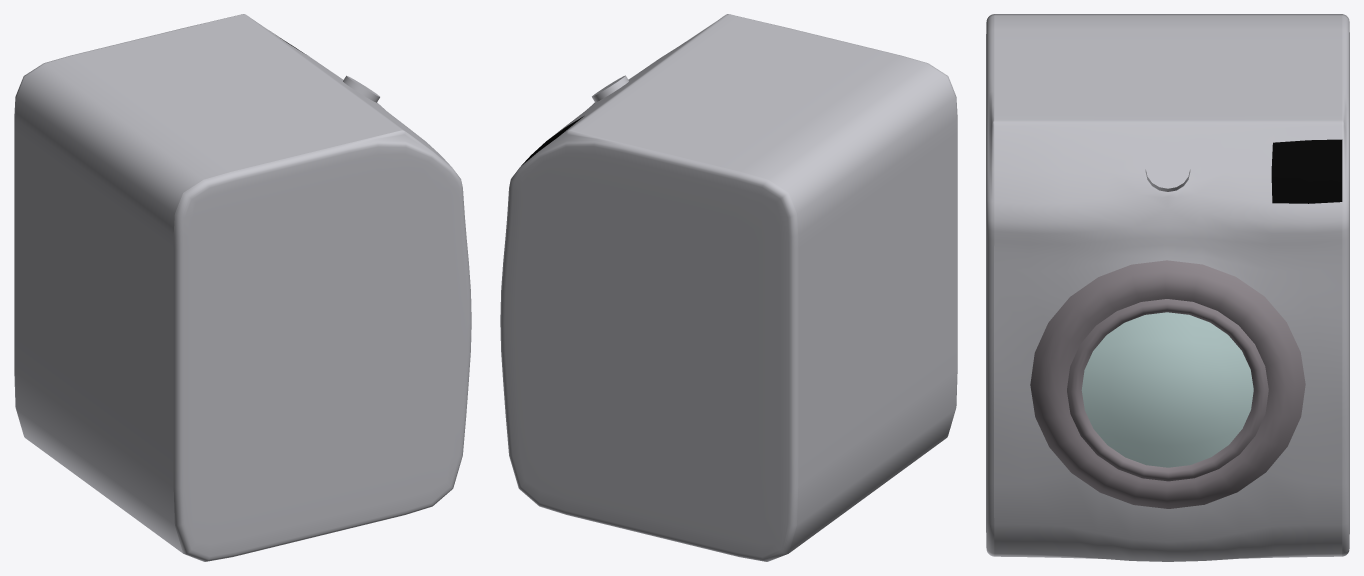
Rendered from washingmachine 1.fbx.
3 renders of one model, left to right at view 1: azimuth 30°, elevation 25°; view 2: azimuth 150°, elevation 25°; view 3: azimuth 270°, elevation 25°, orthographic. The views are drawn at different scales.
Parts seen in each view (by area): view 1: Cube.001; view 2: Cube.001; view 3: Cube.001.
Boxes of the visible parts, x1,y1,x2,y2 form: Cube.001: (14,14,471,561); Cube.001: (500,14,957,561); Cube.001: (986,14,1349,561).
Bounding box in the file's own units: 112 × 129 × 100.
